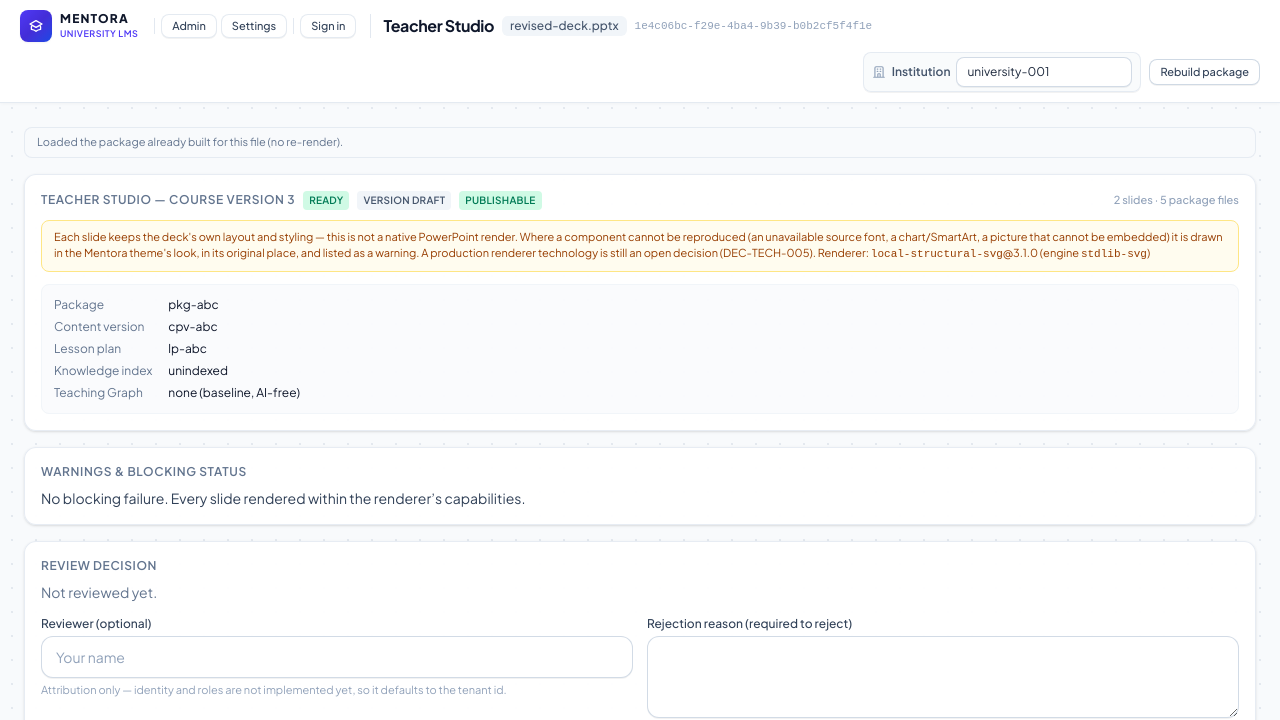
Test: StudioPage — loading the reviewed package › rebuilds on request, which re-renders every slide
This screenshot has width=1280, height=720.
Click the button "Rebuild package" at (1205, 72), box x1=1149 y1=59 x2=1260 y2=85
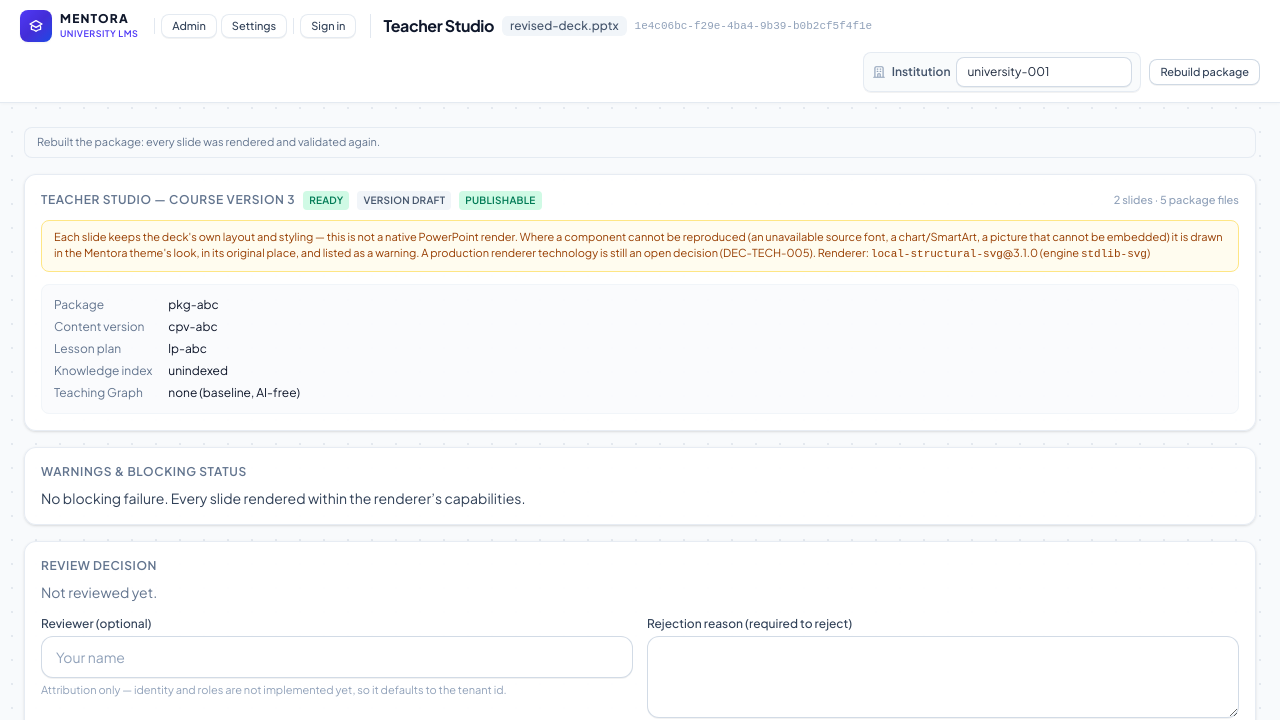
Now the text with test id "studio-notice" shows "Rebuilt the package", box x1=37 y1=135 x2=380 y2=148
